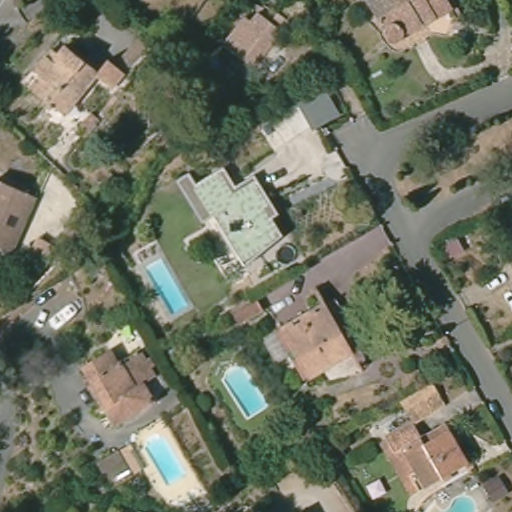pool: (142, 251, 190, 315), (218, 362, 270, 421), (142, 433, 192, 486), (445, 486, 481, 512)
